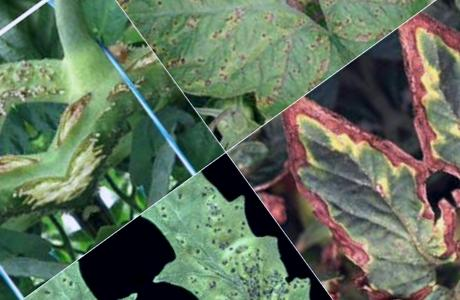Tomato leaf bacterial spot: (238, 70, 460, 300), (111, 0, 345, 141), (116, 160, 351, 300)
